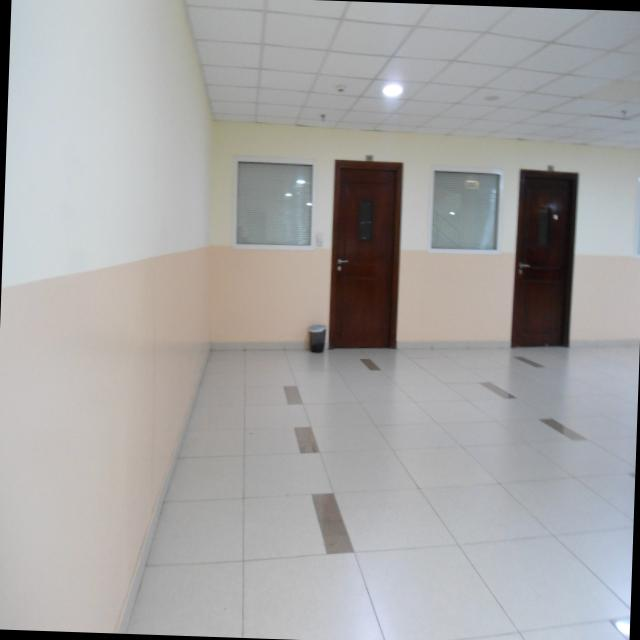door: (319, 152, 409, 348), (506, 163, 588, 354)
dustbin: (304, 323, 328, 358)
wall: (0, 0, 217, 636), (211, 108, 638, 354)
window: (230, 156, 319, 262), (416, 156, 504, 254)
